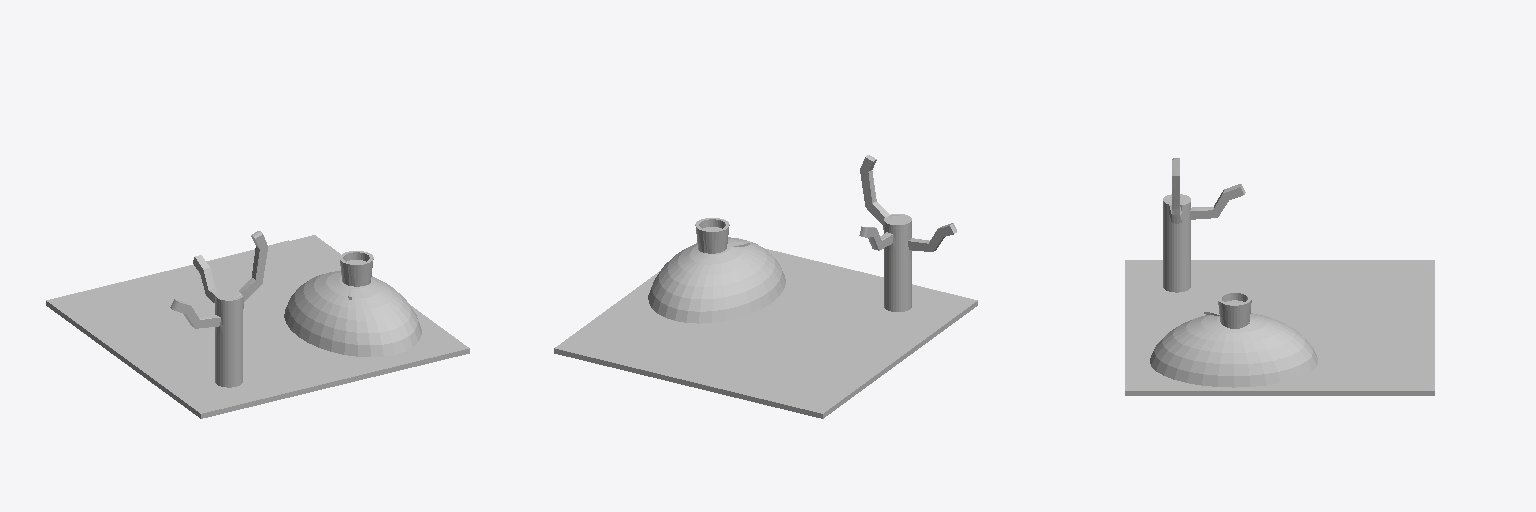
Rendered from DioramaPantano.obj.
3 views of the same model, side by side, from view 1: azimuth 30°, elevation 25°; view 2: azimuth 150°, elevation 25°; view 3: azimuth 270°, elevation 25° (orthographic).
Visible parts, largest first — view 1: Cube_Cube.001, Sphere_Sphere, Mug2_Plane.001, Cylinder.001_Cylinder.001, Mug1_Plane, Cylinder_Cylinder; view 2: Cube_Cube.001, Mug2_Plane.001, Sphere_Sphere, Cylinder.001_Cylinder.001, Mug1_Plane, Cylinder_Cylinder; view 3: Cube_Cube.001, Mug2_Plane.001, Sphere_Sphere, Cylinder.001_Cylinder.001, Mug1_Plane, Cylinder_Cylinder.
Boxes of the visible parts, x1,y1,x2,y2 form: Cube_Cube.001: [46, 235, 469, 418]; Sphere_Sphere: [284, 271, 421, 356]; Mug2_Plane.001: [77, 240, 310, 323]; Cylinder.001_Cylinder.001: [170, 231, 267, 387]; Mug1_Plane: [173, 325, 270, 372]; Cylinder_Cylinder: [340, 251, 373, 299]; Cube_Cube.001: [554, 248, 977, 418]; Mug2_Plane.001: [582, 321, 845, 391]; Sphere_Sphere: [648, 237, 785, 323]; Cylinder.001_Cylinder.001: [859, 155, 956, 311]; Mug1_Plane: [774, 302, 894, 342]; Cylinder_Cylinder: [695, 218, 749, 253]; Cube_Cube.001: [1125, 260, 1434, 395]; Mug2_Plane.001: [1310, 260, 1433, 379]; Sphere_Sphere: [1150, 313, 1317, 387]; Cylinder.001_Cylinder.001: [1163, 158, 1245, 292]; Mug1_Plane: [1189, 274, 1292, 319]; Cylinder_Cylinder: [1204, 291, 1251, 328].
Bounding box in the file's own units: 22.32 × 11.58 × 22.02.